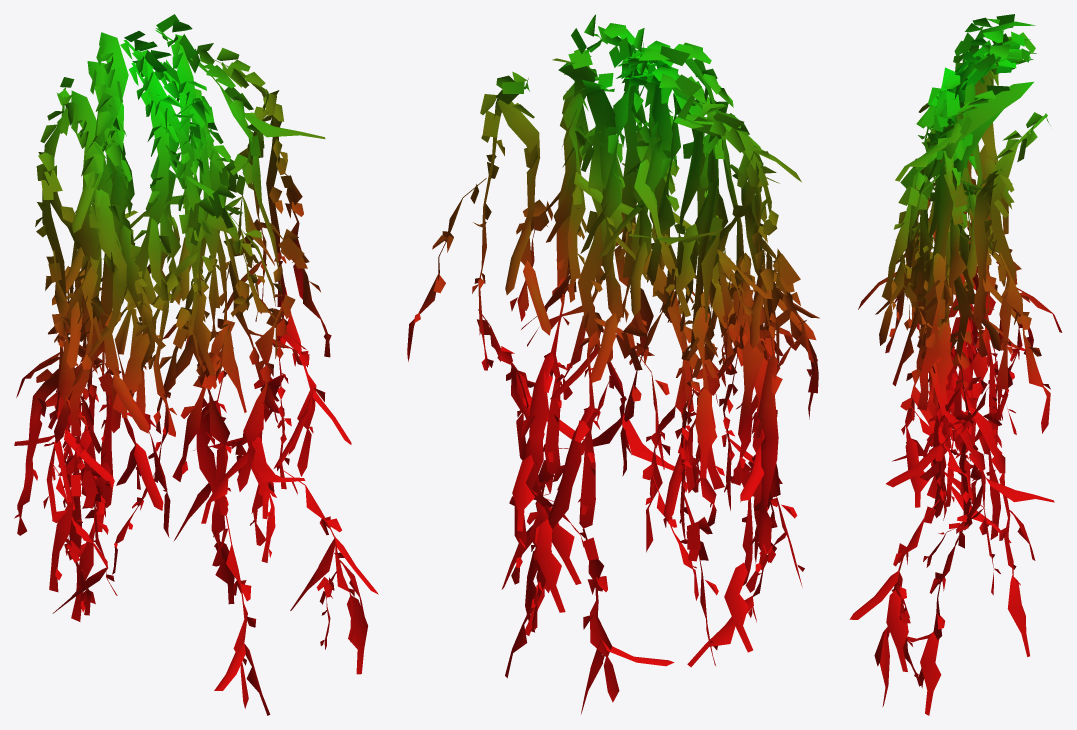
The model's file is Var2_LOD5.fbx.
3 views of the same model, side by side, from view 1: azimuth 30°, elevation 25°; view 2: azimuth 150°, elevation 25°; view 3: azimuth 270°, elevation 25° (orthographic). The views are drawn at different scales.
Parts seen in each view (by area): view 1: _57pk_Var2_LOD5; view 2: _57pk_Var2_LOD5; view 3: _57pk_Var2_LOD5.
Boxes of the visible parts, x1,y1,x2,y2 form: _57pk_Var2_LOD5: (14, 14, 378, 715); _57pk_Var2_LOD5: (407, 14, 819, 713); _57pk_Var2_LOD5: (849, 14, 1062, 715).
Bounding box in the file's own units: 115 × 238 × 70.92.
